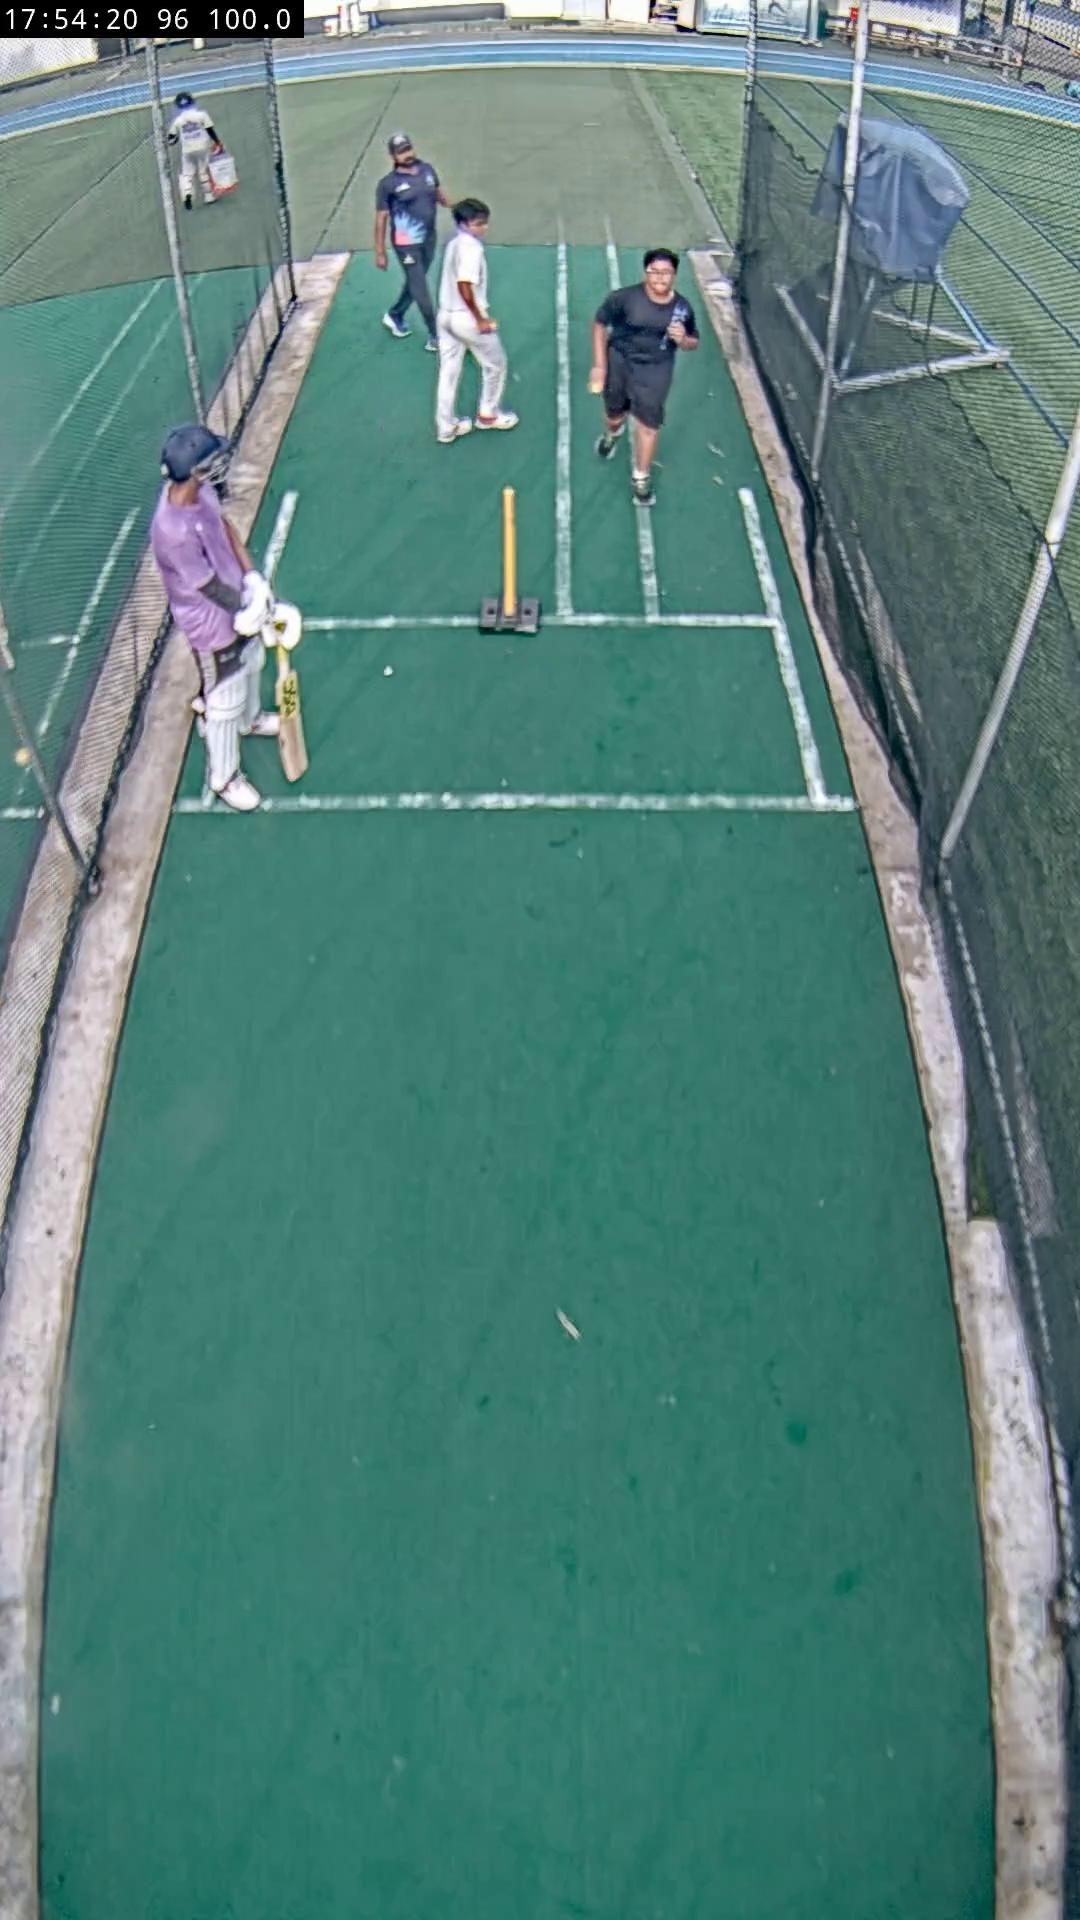ball: (588, 378, 604, 392)
stumps: (480, 488, 541, 634)
